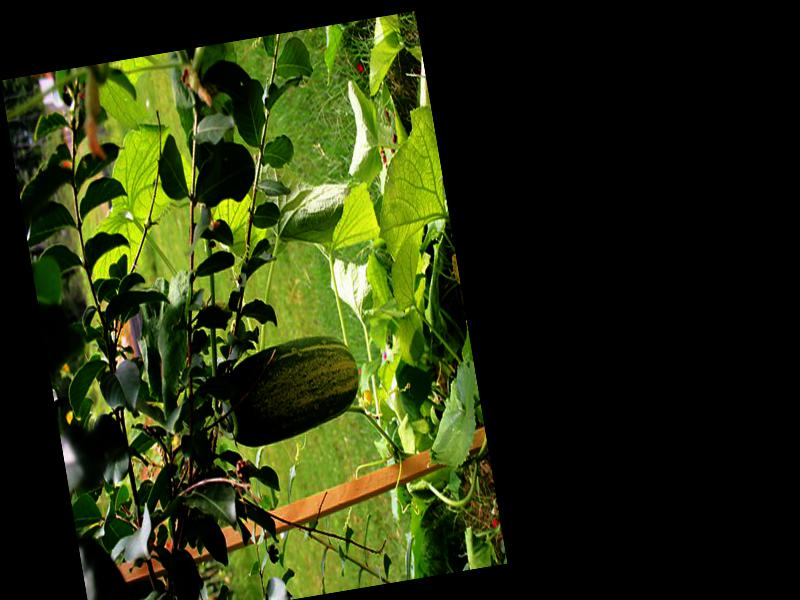Cucumber: (205, 332, 368, 454)
